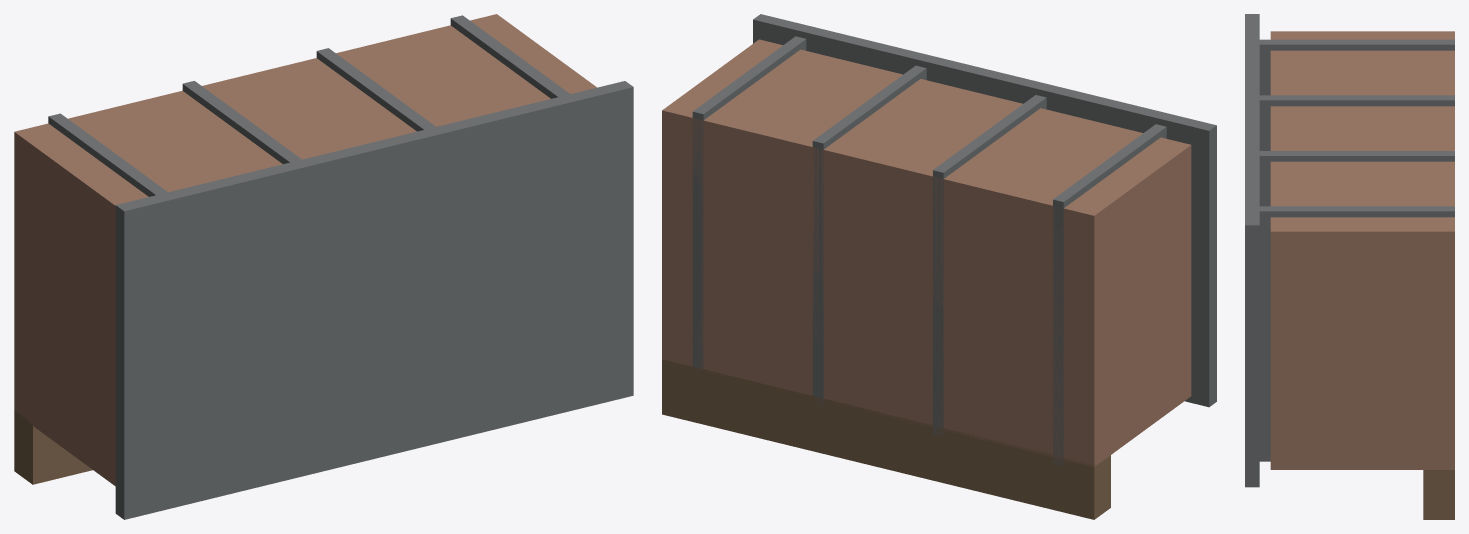
Rendered from rail_warehouse.glb.
3 views of the same model, side by side, from view 1: azimuth 30°, elevation 25°; view 2: azimuth 150°, elevation 25°; view 3: azimuth 270°, elevation 25° (orthographic). The views are drawn at different scales.
Parts seen in each view (by area): view 1: Roof, Main, LoadingDock, Support-7.5, Support2.5, Support-2.5, Support7.5; view 2: Main, LoadingDock, Roof, Support7.5, Support2.5, Support-7.5, Support-2.5; view 3: Main, Roof, Support7.5, Support-7.5, Support-2.5, Support2.5, LoadingDock.
Part boxes in pixels (x1=…): Roof: x1=115, y1=81, x2=633, y2=519; Main: x1=14, y1=14, x2=596, y2=486; LoadingDock: x1=14, y1=410, x2=92, y2=484; Support-7.5: x1=48, y1=113, x2=167, y2=196; Support2.5: x1=316, y1=48, x2=435, y2=131; Support-2.5: x1=182, y1=81, x2=301, y2=164; Support7.5: x1=450, y1=15, x2=569, y2=98; Main: x1=662, y1=39, x2=1191, y2=466; LoadingDock: x1=662, y1=359, x2=1110, y2=519; Roof: x1=753, y1=14, x2=1216, y2=407; Support7.5: x1=692, y1=36, x2=806, y2=374; Support2.5: x1=812, y1=65, x2=926, y2=406; Support-7.5: x1=1053, y1=124, x2=1166, y2=465; Support-2.5: x1=933, y1=95, x2=1046, y2=436; Main: x1=1270, y1=31, x2=1454, y2=469; Roof: x1=1245, y1=14, x2=1259, y2=487; Support7.5: x1=1259, y1=206, x2=1454, y2=461; Support-7.5: x1=1259, y1=39, x2=1454, y2=95; Support-2.5: x1=1259, y1=95, x2=1454, y2=150; Support2.5: x1=1259, y1=151, x2=1454, y2=206; LoadingDock: x1=1423, y1=470, x2=1454, y2=519.
Bounding box in the file's own units: 19 × 12.6 × 7.98.
